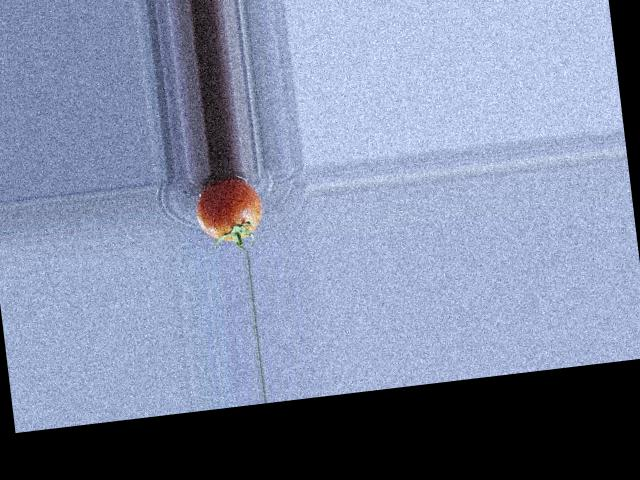tomato: (193, 173, 264, 243)
